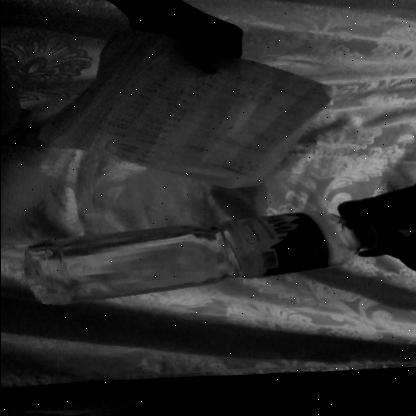Plastic Bottle: (12, 203, 404, 323)
